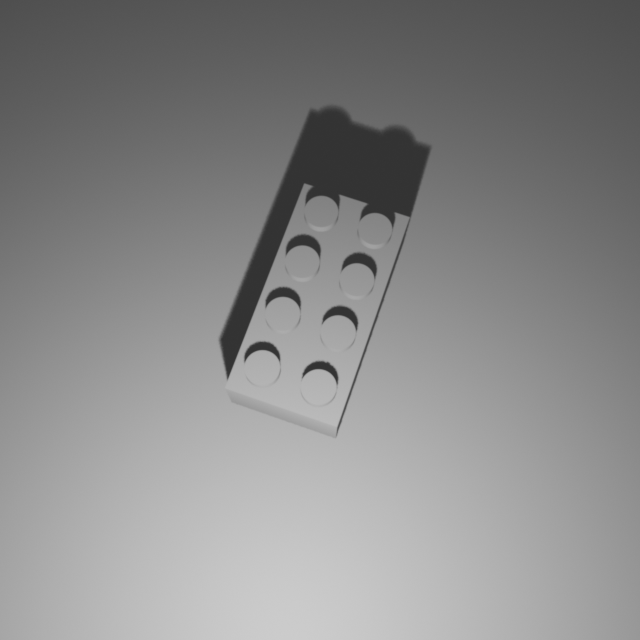lego_2x4: (224, 179, 411, 438)
